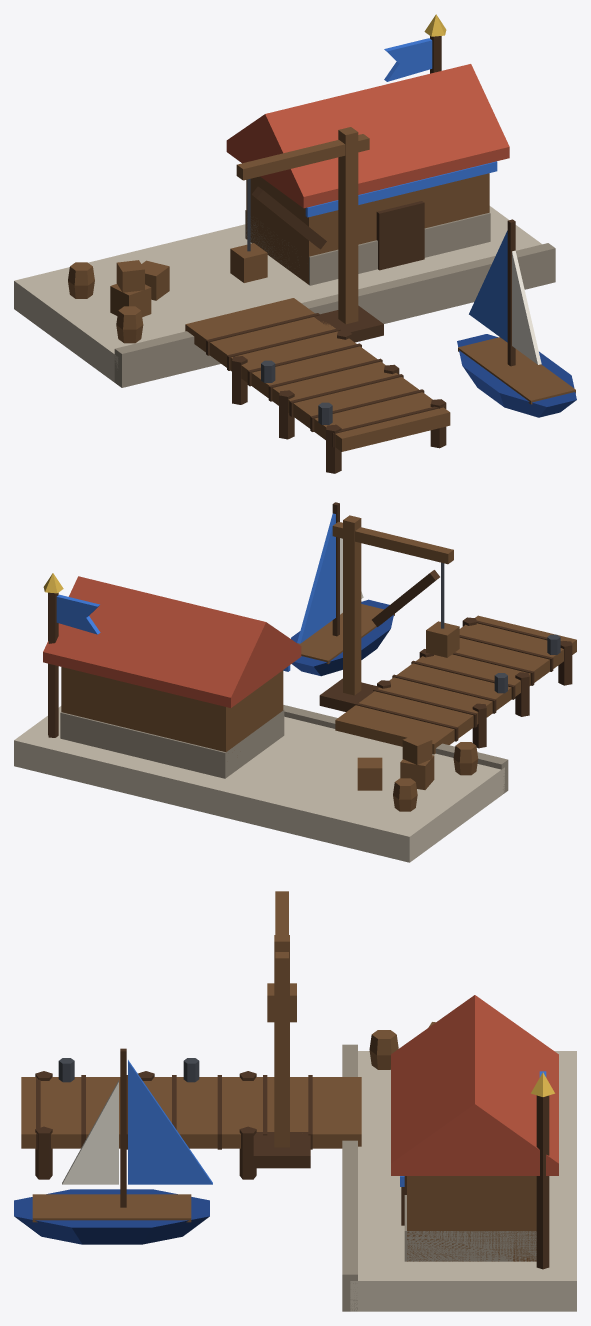
The model's file is bld_harbor.glb.
The picture shows the model from 3 angles, top to bottom: view 1: azimuth 30°, elevation 25°; view 2: azimuth 150°, elevation 25°; view 3: azimuth 270°, elevation 25°; orthographic projection. The views are drawn at different scales.
Visible parts, largest first — view 1: bld_harbor; view 2: bld_harbor; view 3: bld_harbor.
Part boxes in pixels (x1,y1,x2,y2): bld_harbor: [14, 14, 576, 473]; bld_harbor: [14, 502, 576, 862]; bld_harbor: [14, 891, 576, 1311].
Bounding box in the file's own units: 0.48 × 0.242 × 0.4965.
